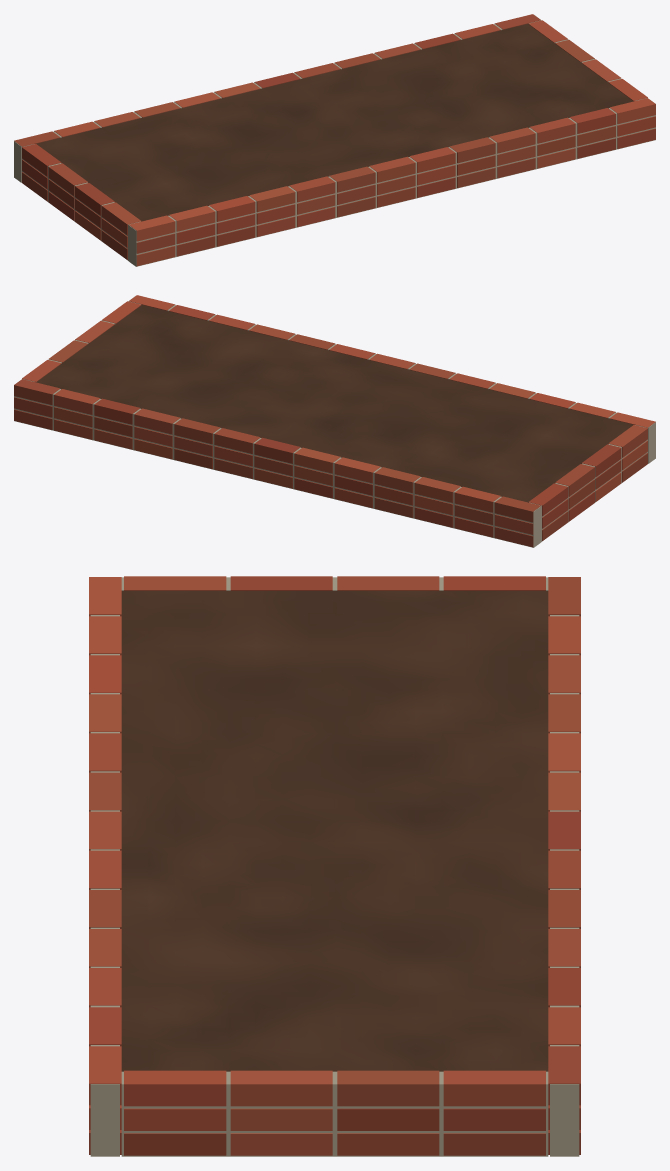
Rendered from Park_FlowerBed.fbx.
3 renders of one model, top to bottom at view 1: azimuth 30°, elevation 25°; view 2: azimuth 150°, elevation 25°; view 3: azimuth 270°, elevation 25°, orthographic. The views are drawn at different scales.
Parts seen in each view (by area): view 1: Park_FlowerBed; view 2: Park_FlowerBed; view 3: Park_FlowerBed.
Boxes of the visible parts, box(x1,y1,x2,y2) form: Park_FlowerBed: box(14, 14, 655, 266); Park_FlowerBed: box(14, 295, 655, 547); Park_FlowerBed: box(89, 576, 580, 1156).
Bounding box in the file's own units: 22 × 1.47 × 9.
